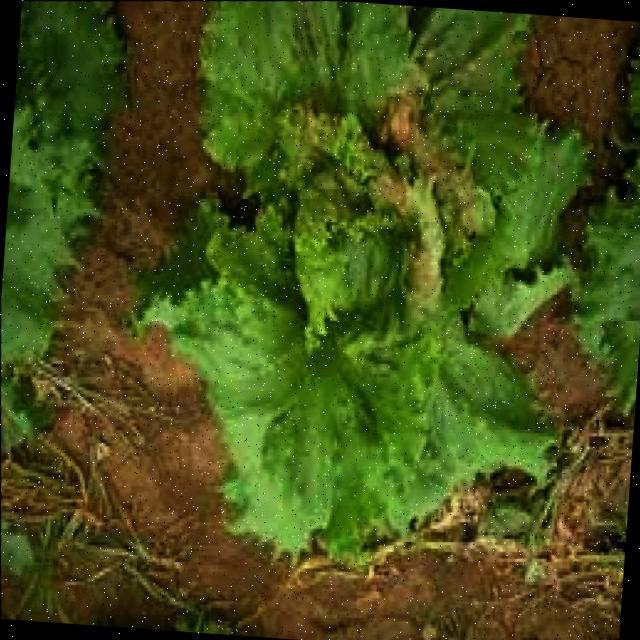Lettuce Mosaic Virus: (222, 4, 513, 514)
